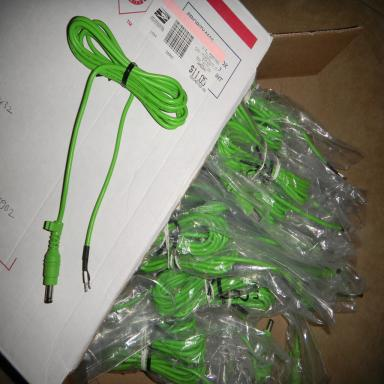plasticbag: (62, 81, 369, 383)
